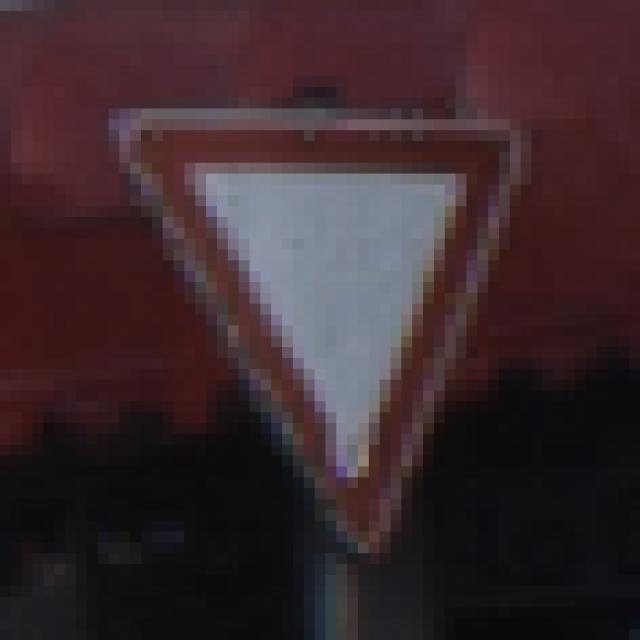Give Way: (66, 66, 587, 587)
